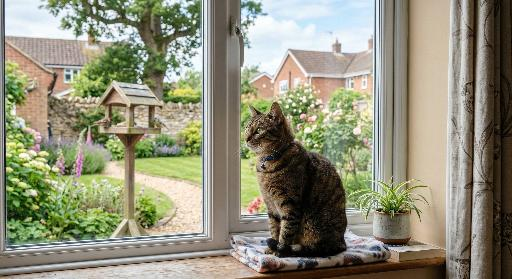cat_sitting: (245, 102, 347, 257)
